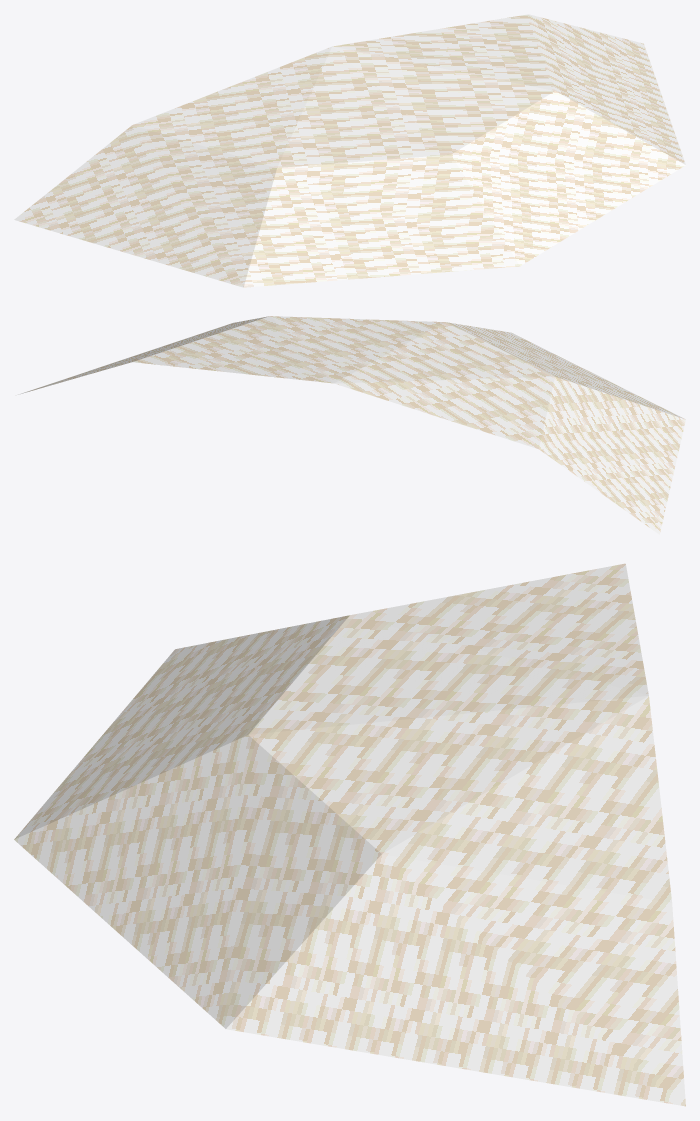
The picture shows the model from 3 angles, top to bottom: view 1: azimuth 30°, elevation 25°; view 2: azimuth 150°, elevation 25°; view 3: azimuth 270°, elevation 25°; orthographic projection. The views are drawn at different scales.
Parts seen in each view (by area): view 1: ef_648; view 2: ef_648; view 3: ef_648.
Boxes of the visible parts, x1,y1,x2,y2 form: ef_648: (14, 14, 685, 287); ef_648: (18, 316, 685, 534); ef_648: (14, 563, 685, 1106).
Bounding box in the file's own units: 0.4309 × 0.054 × 0.2261.
Materials: 1 (1 with a texture image).
